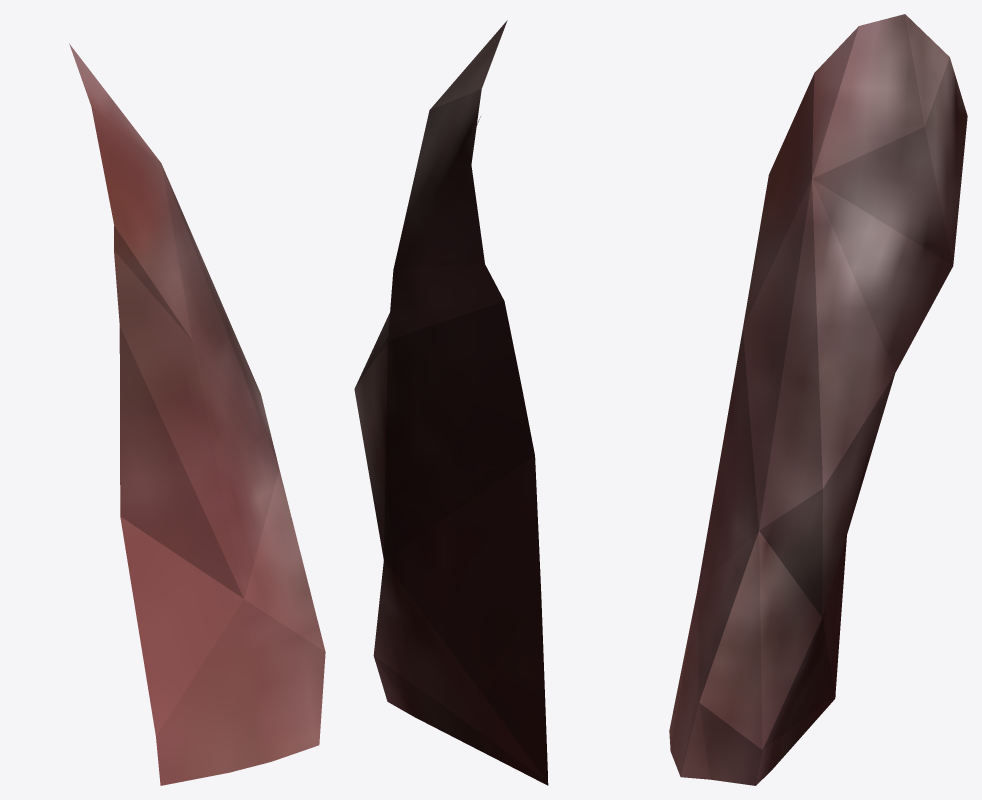
3 views of the same model, side by side, from view 1: azimuth 30°, elevation 25°; view 2: azimuth 150°, elevation 25°; view 3: azimuth 270°, elevation 25° (orthographic). The views are drawn at different scales.
Size of the model in its own units: 0.0758 by 0.2657 by 0.1049.
1 material, 1 textured.
